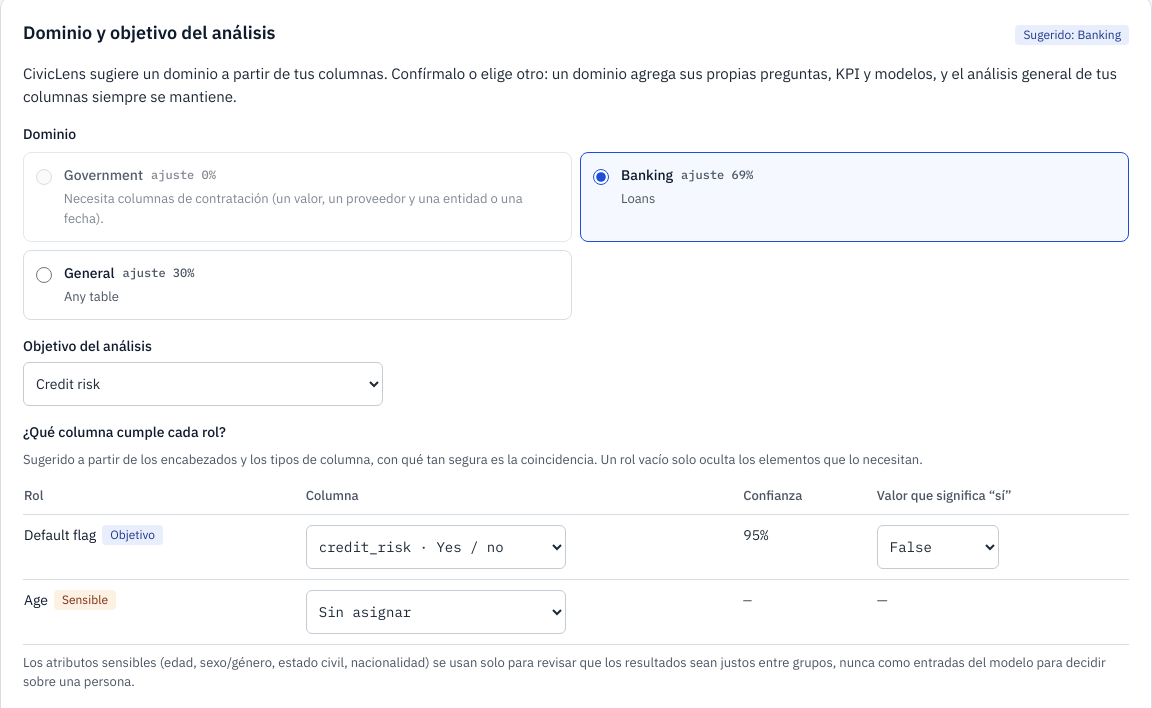
Test: Domain step › saves the pack, goal and edited roles with PUT, in Spanish
The width and height of the screenshot is (1152, 708).
Select "Portfolio" in the dropdown labelled "Objetivo del análisis" at coordinates (203, 384), box [23, 362, 383, 406]
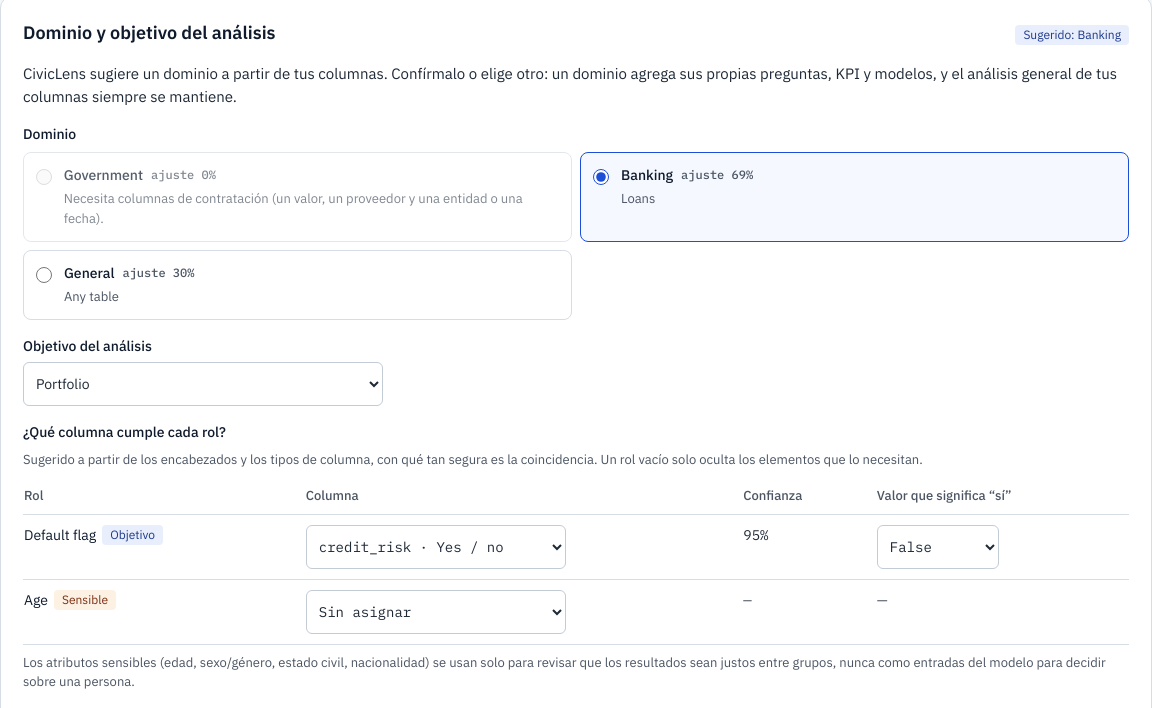
Select "age · Whole number" in the dropdown labelled "Age Sensible" at coordinates (436, 612), box [306, 590, 566, 634]
(page scrolled)
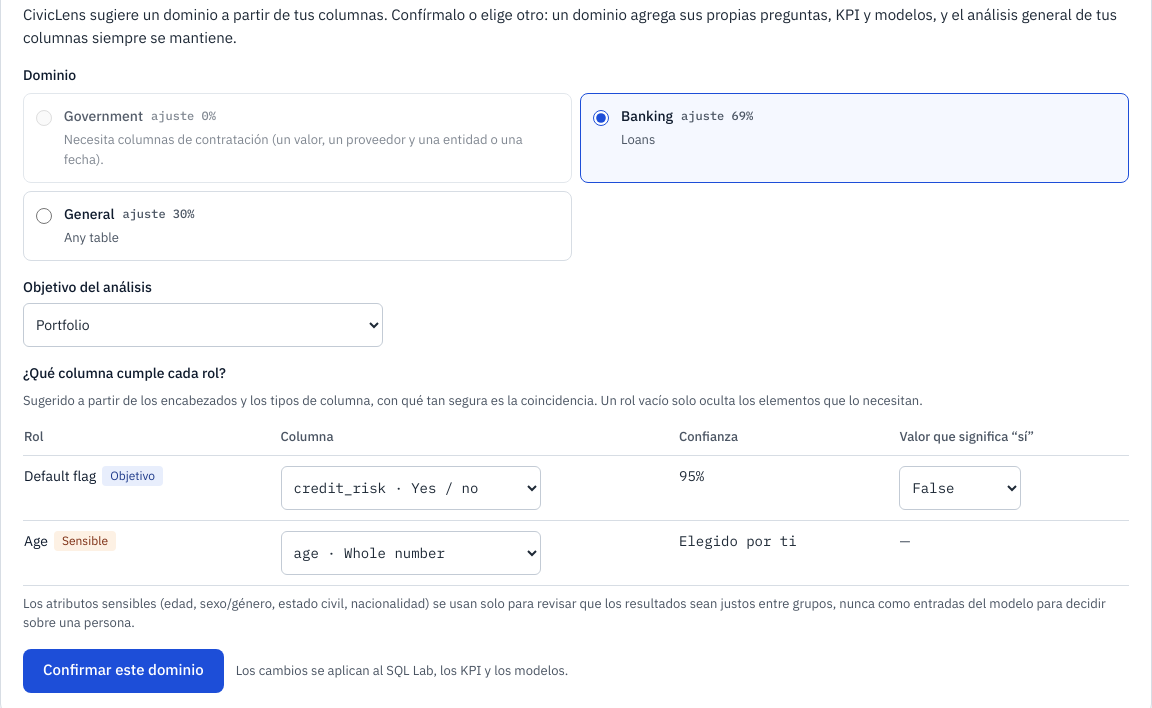
Click the button "Confirmar este dominio" at coordinates (123, 670), box [23, 648, 224, 692]
(page scrolled)
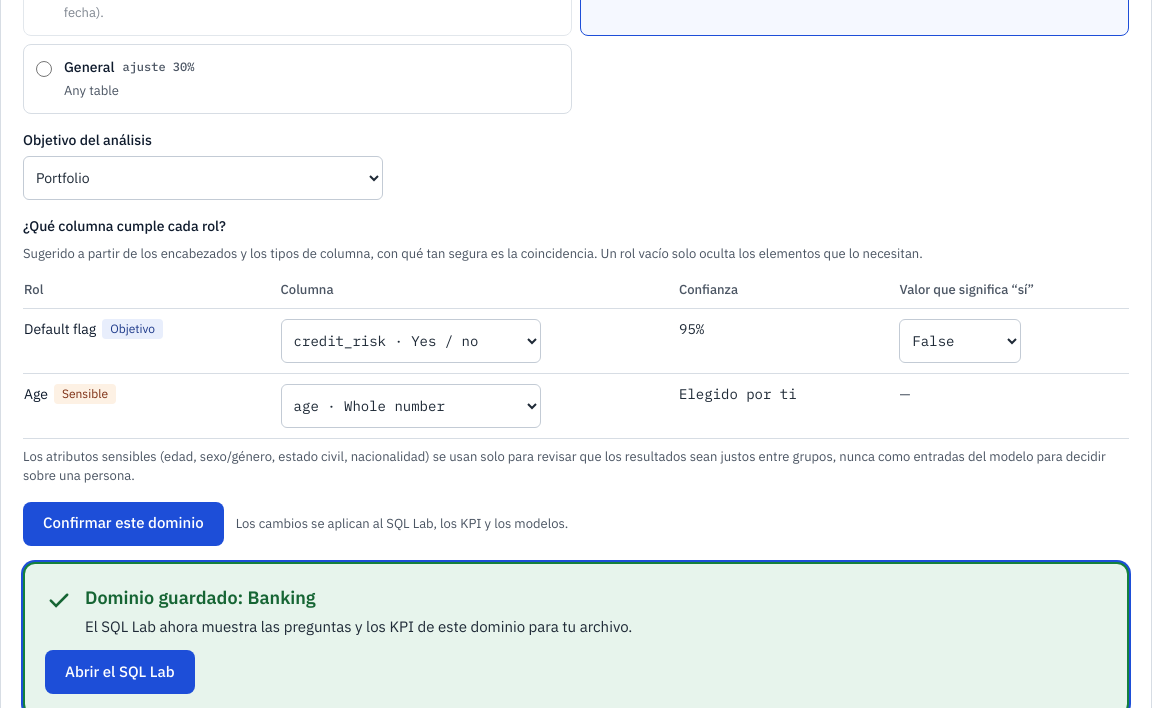
expect the message shows "Dominio guardado: Banking": met, box [85, 586, 316, 608]
